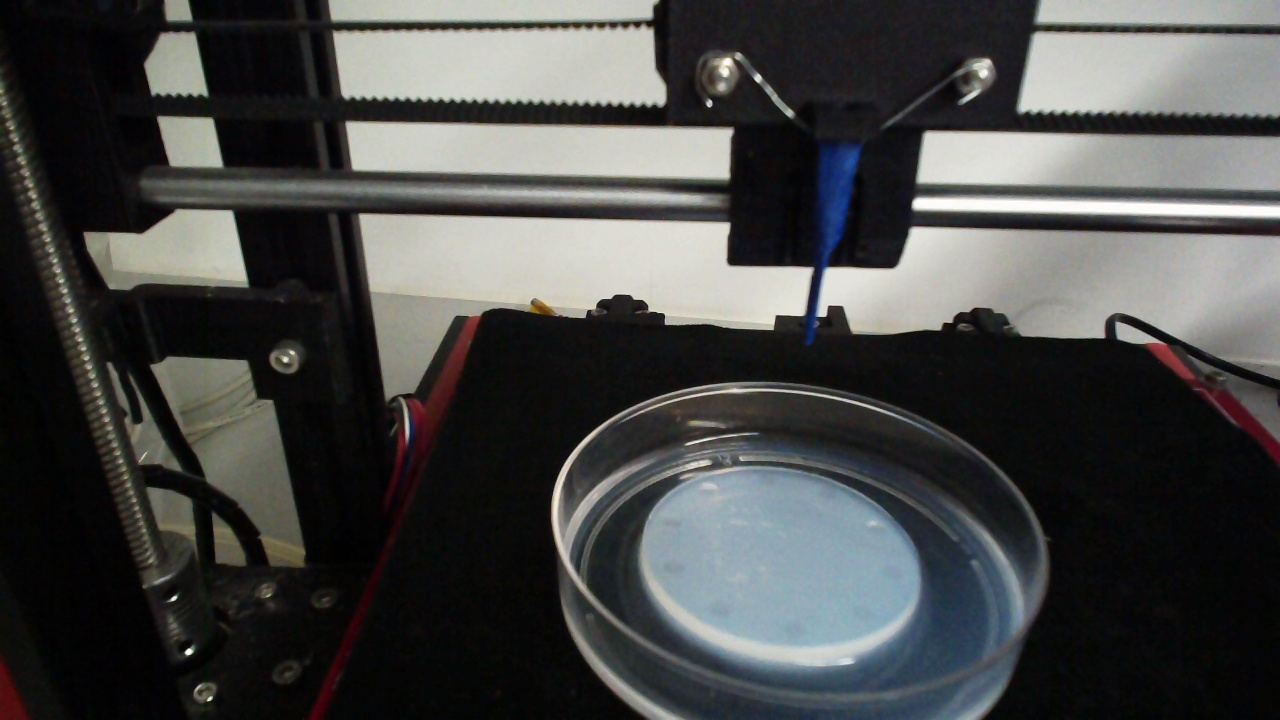groove: (706, 598, 730, 619), (881, 563, 906, 582), (865, 520, 891, 538), (779, 620, 804, 638), (659, 559, 687, 574), (851, 604, 874, 622), (660, 516, 685, 528), (817, 488, 839, 501), (697, 482, 719, 494), (756, 475, 777, 487)
needle: (805, 145, 864, 346)
